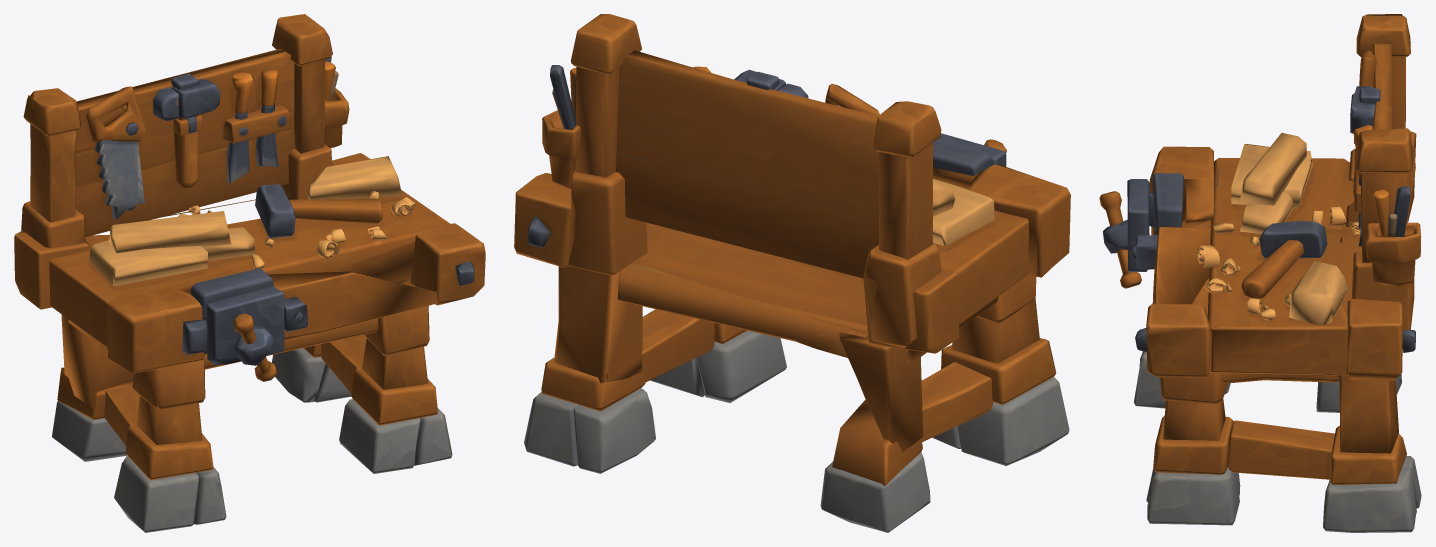
File: atelier_menuisier.glb
The picture shows the model from 3 angles, left to right: view 1: azimuth 30°, elevation 25°; view 2: azimuth 150°, elevation 25°; view 3: azimuth 270°, elevation 25°; orthographic projection. The views are drawn at different scales.
Parts seen in each view (by area): view 1: geometry_0; view 2: geometry_0; view 3: geometry_0.
Part boxes in pixels (x1,y1,x2,y2): geometry_0: (14, 14, 485, 532); geometry_0: (514, 14, 1070, 532); geometry_0: (1099, 14, 1421, 532).
Size of the model in its own units: 0.957 by 0.9478 by 0.7407.
1 material, 1 textured.
